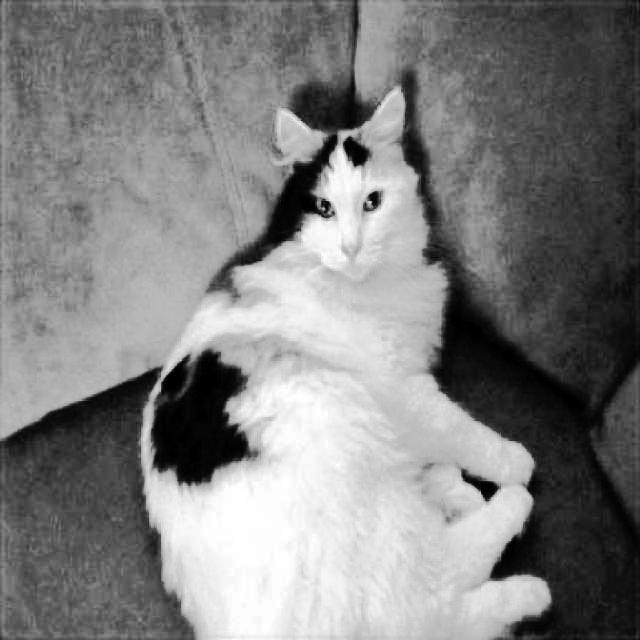Cat: (134, 81, 553, 640)
